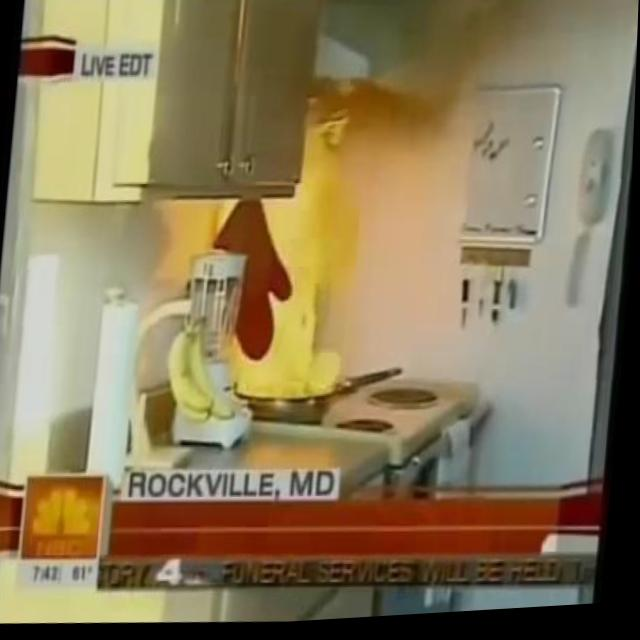fire: (231, 154, 367, 418)
